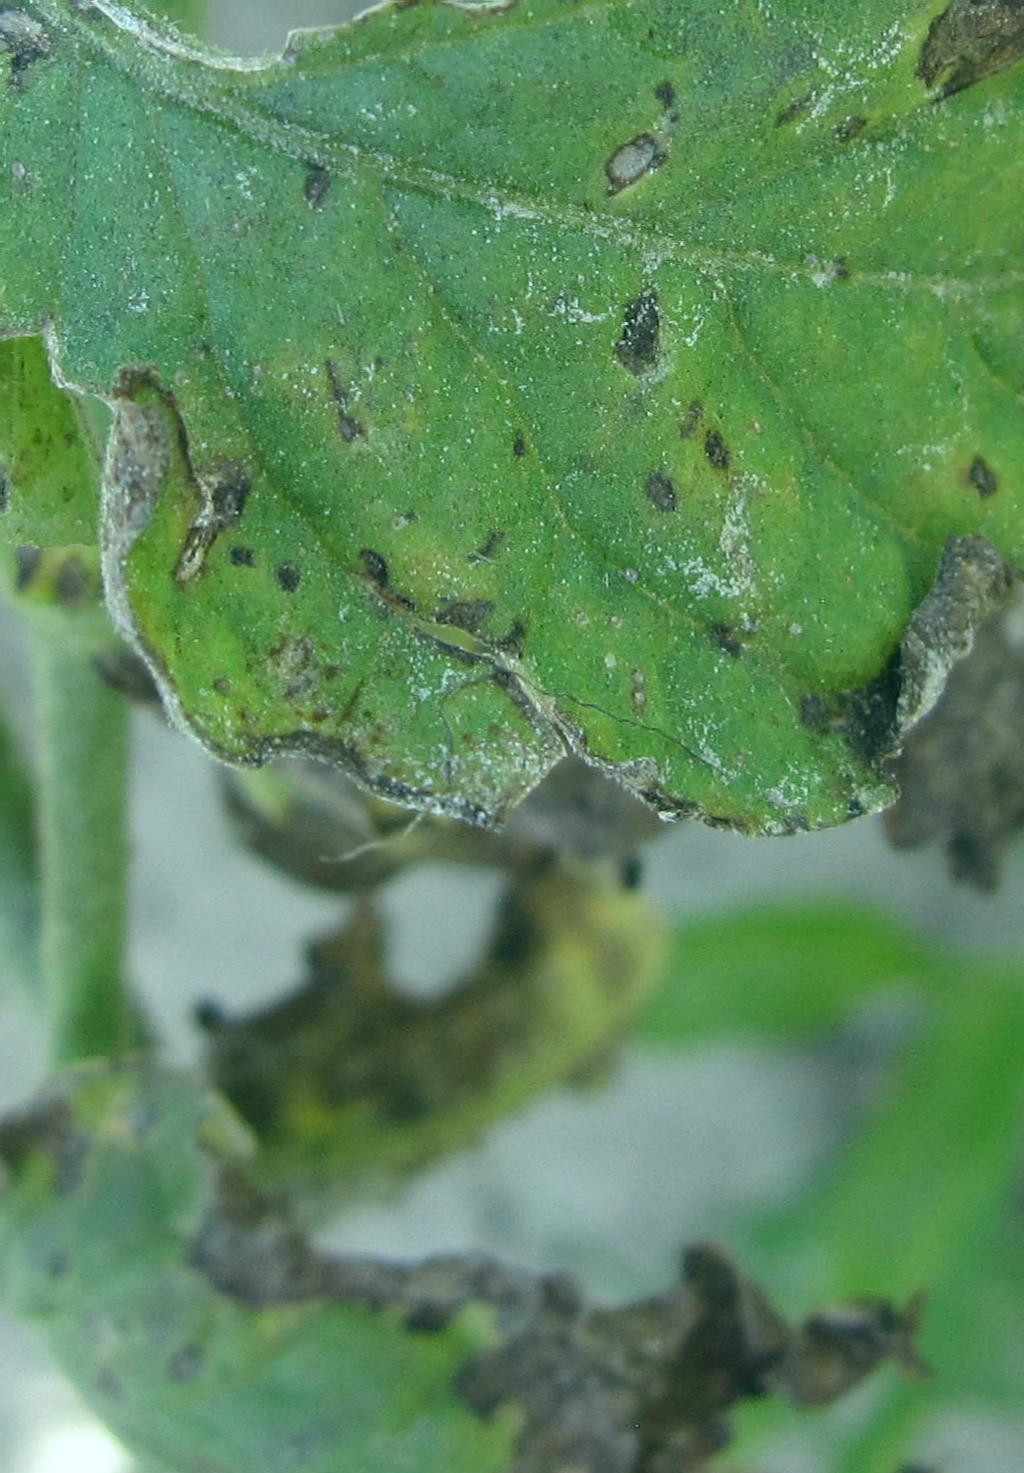Tomato leaf bacterial spot: (0, 0, 1024, 954)
